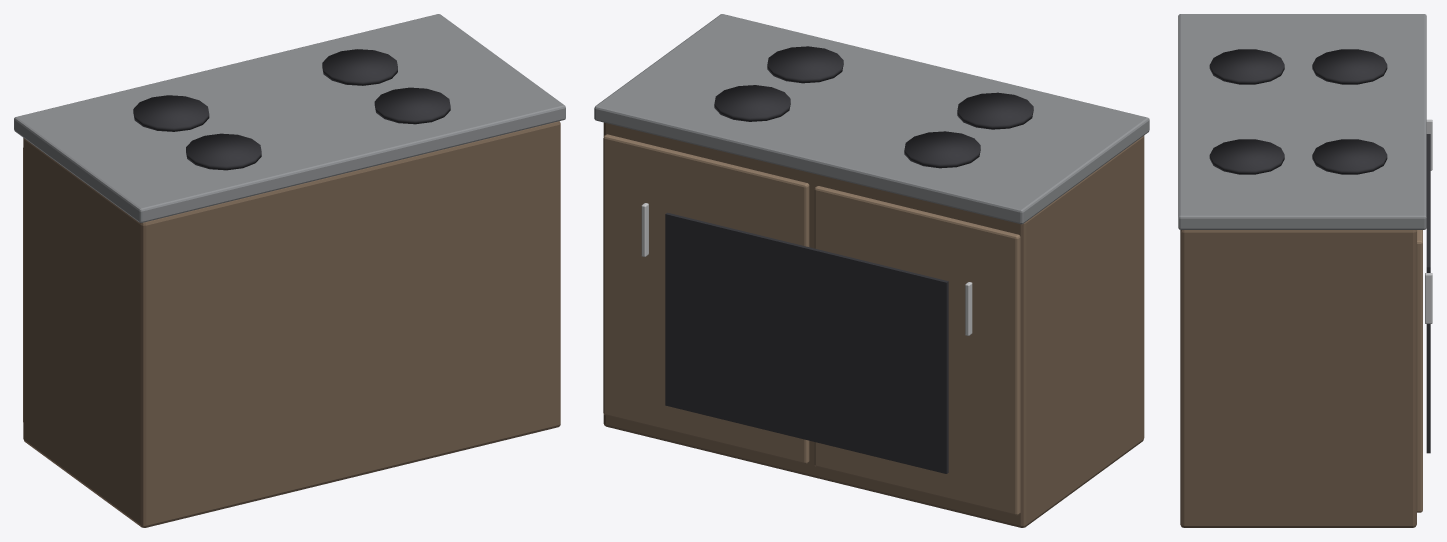
The model's file is cab_1_2_stove.glb.
The picture shows the model from 3 angles, left to right: view 1: azimuth 30°, elevation 25°; view 2: azimuth 150°, elevation 25°; view 3: azimuth 270°, elevation 25°; orthographic projection. The views are drawn at different scales.
Parts seen in each view (by area): view 1: cab_1_2_stove; view 2: cab_1_2_stove; view 3: cab_1_2_stove.
Boxes of the visible parts, x1=… form: cab_1_2_stove: x1=14, y1=14, x2=565, y2=527; cab_1_2_stove: x1=594, y1=14, x2=1149, y2=527; cab_1_2_stove: x1=1178, y1=14, x2=1432, y2=527.
Bounding box in the file's own units: 1.22 × 0.894 × 0.645.
